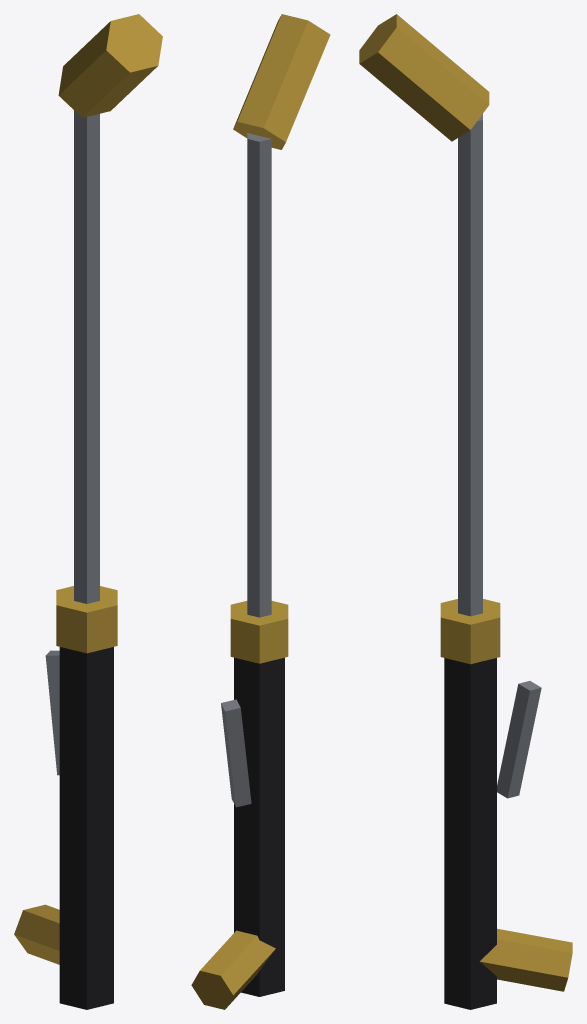
The model's file is T5_sprayer_wand_a.glb.
3 views of the same model, side by side, from view 1: azimuth 30°, elevation 25°; view 2: azimuth 150°, elevation 25°; view 3: azimuth 270°, elevation 25° (orthographic). The views are drawn at different scales.
Parts seen in each view (by area): view 1: T5_sprayer_wand_a; view 2: T5_sprayer_wand_a; view 3: T5_sprayer_wand_a.
Part boxes in pixels (left/top/right/bottom): T5_sprayer_wand_a: left=14, top=14, right=162, bottom=1009; T5_sprayer_wand_a: left=191, top=14, right=330, bottom=1009; T5_sprayer_wand_a: left=359, top=14, right=572, bottom=1009.
Size of the model in its own units: 0.051 by 0.8 by 0.1584.
